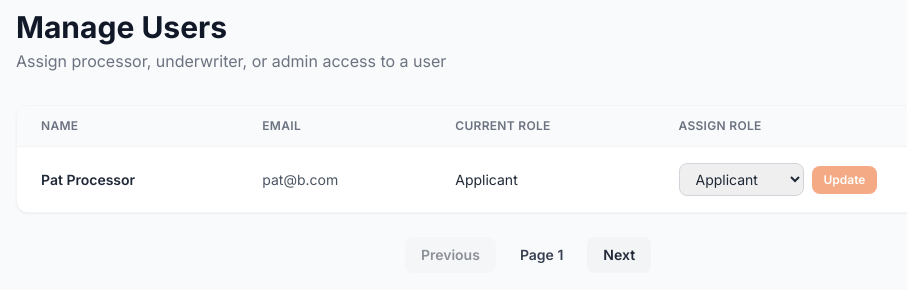
Scenario: UserManagement — pagination › fetches the next page of users
Expected: the text "Pat Processor" is shown, [17, 146, 238, 212]
Click the button "Next".
click(619, 255)  # box [587, 237, 651, 273]
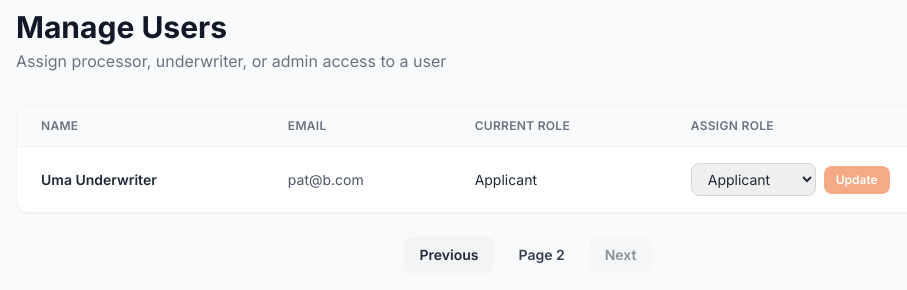
Expected: the text "Uma Underwriter" is shown, [17, 146, 264, 212]
